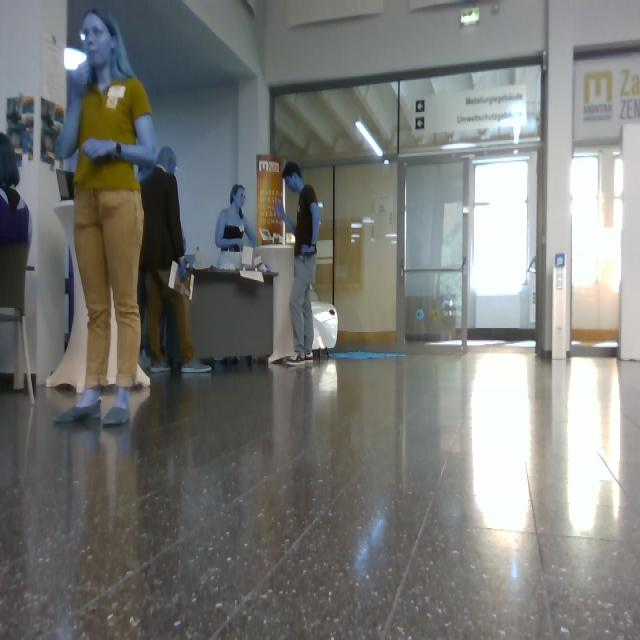chair: (1, 244, 35, 404)
desk: (190, 269, 278, 358)
door: (271, 57, 543, 356), (286, 190, 298, 220)
light bulb: (356, 121, 383, 157), (65, 48, 86, 72)
person: (57, 10, 156, 426), (141, 148, 209, 373), (275, 162, 321, 366), (1, 134, 32, 245), (217, 185, 256, 268)
pillar: (1, 1, 67, 385), (548, 1, 574, 360), (1, 324, 20, 374)
table: (47, 201, 88, 393), (256, 245, 294, 361), (108, 304, 119, 385), (136, 366, 150, 386)
tiled floor: (1, 349, 640, 640)
